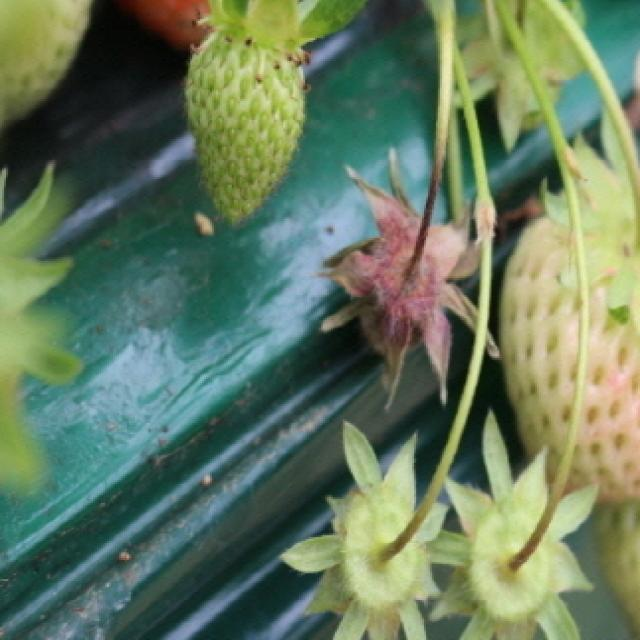Gray Mold: (312, 148, 504, 407)
